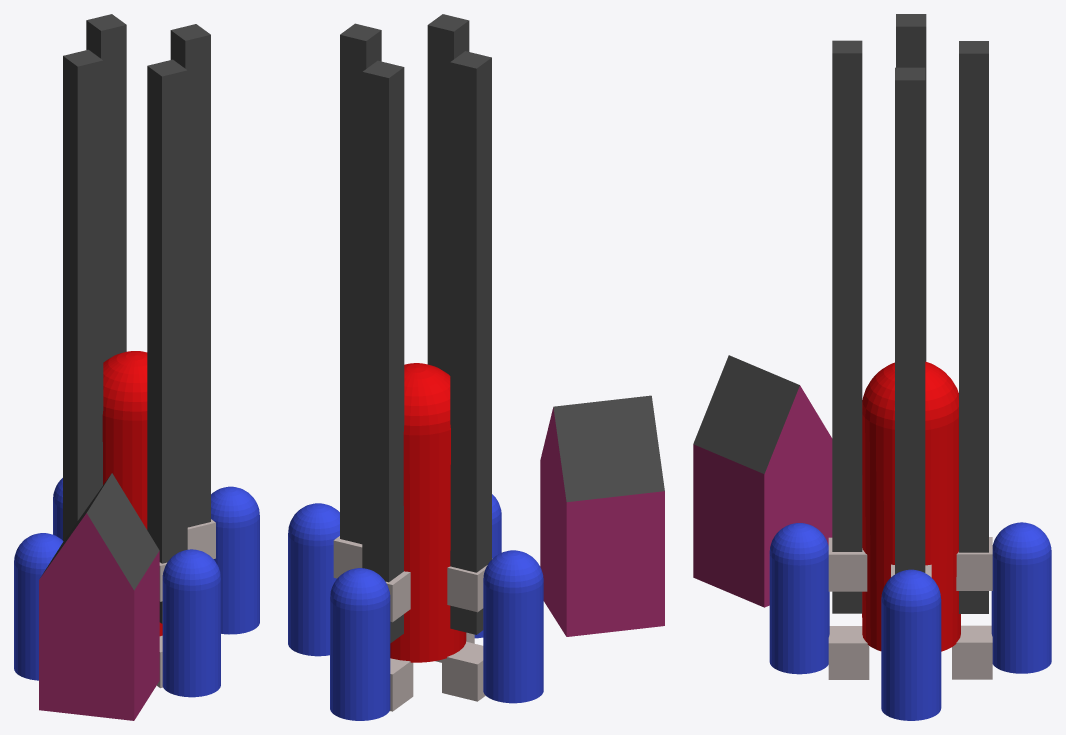
Rendered from capture2.gltf.
3 renders of one model, left to right at view 1: azimuth 30°, elevation 25°; view 2: azimuth 150°, elevation 25°; view 3: azimuth 270°, elevation 25°, orthographic. The views are drawn at different scales.
Parts seen in each view (by area): view 1: Plane, Cube.004, Cube, Cube.003, Cube.005, Sphere.004, Sphere.003, Sphere.002, Sphere.001, Sphere.005; view 2: Plane, Cube, Cube.005, Sphere.002, Cube.003, Sphere.001, Sphere.005, Cube.004, Sphere.003, Sphere.004; view 3: Plane, Cube.004, Sphere.002, Cube.005, Cube.003, Sphere.004, Sphere.005, Sphere.003, Cube.
Boxes of the visible parts, x1,y1,x2,y2 form: Plane: (39,473,159,720); Cube.004: (147,59,187,623); Cube: (63,49,103,540); Cube.003: (170,24,210,527); Cube.005: (86,14,126,362); Sphere.004: (157,549,220,697); Sphere.003: (187,486,259,634); Sphere.002: (102,351,162,636); Sphere.001: (14,533,63,680); Sphere.005: (53,478,62,540); Plane: (540,395,664,636); Cube: (450,51,491,634); Cube.005: (362,60,404,643); Sphere.002: (390,363,466,662); Cube.003: (340,23,381,544); Sphere.001: (442,550,543,703); Sphere.005: (330,568,413,720); Cube.004: (427,14,469,375); Sphere.003: (288,503,362,656); Sphere.004: (435,494,501,662); Plane: (693,355,832,607); Cube.004: (832,40,862,613); Sphere.002: (862,361,960,651); Cube.005: (959,41,988,613); Cube.003: (895,67,925,574); Sphere.004: (769,523,869,679); Sphere.005: (952,522,1051,679); Sphere.003: (881,564,941,720); Cube: (896,14,926,361).
Bounding box in the file's own units: 6.77 × 13.67 × 7.12.
